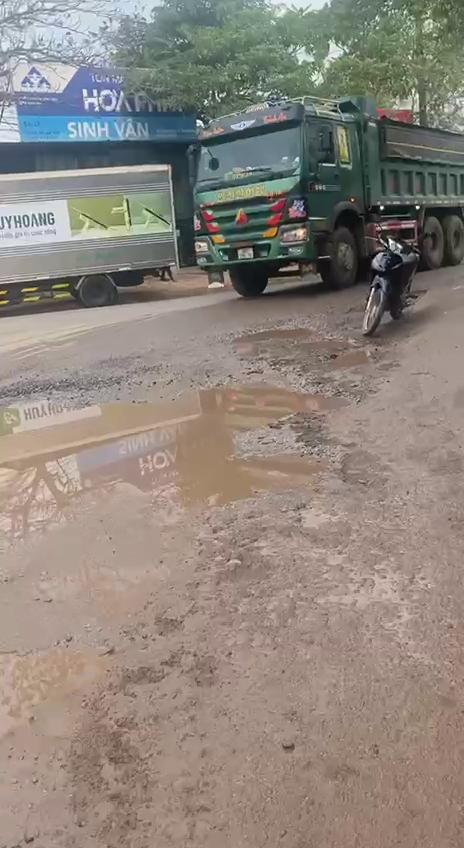pothole: (0, 324, 397, 540), (0, 626, 119, 735)
